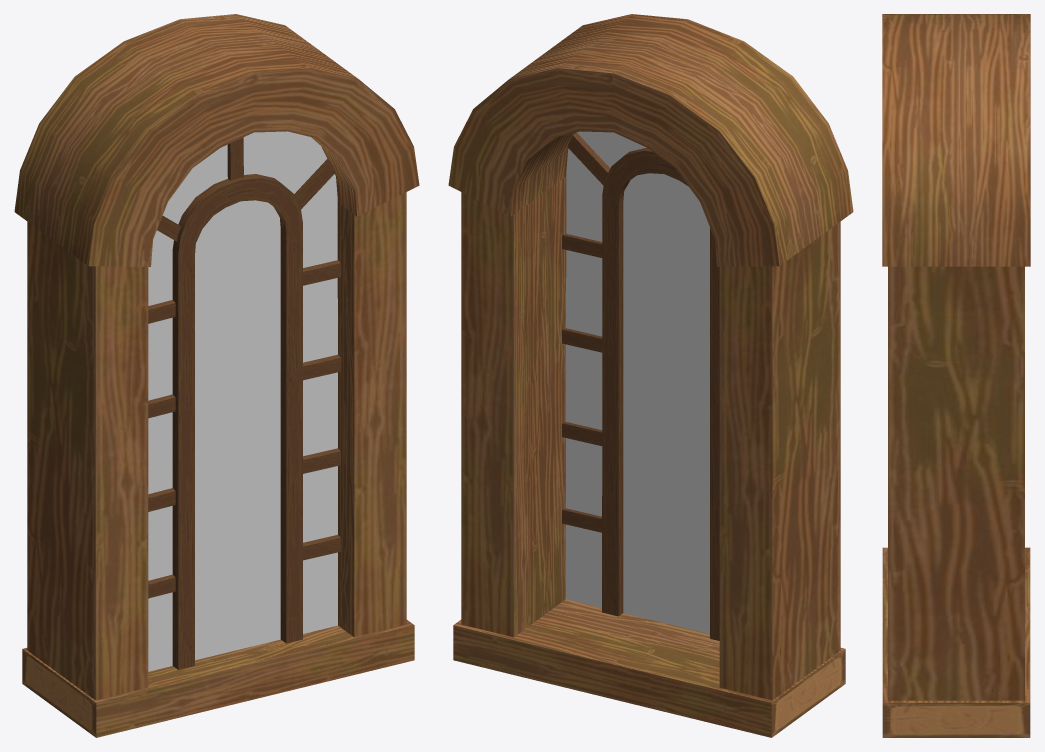
The model's file is window-qm-windowthinround1.glb.
3 views of the same model, side by side, from view 1: azimuth 30°, elevation 25°; view 2: azimuth 150°, elevation 25°; view 3: azimuth 270°, elevation 25° (orthographic).
Visible parts, largest first — view 1: Cube_128; view 2: Cube_128; view 3: Cube_128.
Boxes of the visible parts, bbox=[...] form: Cube_128: bbox=[14, 14, 419, 737]; Cube_128: bbox=[448, 14, 853, 737]; Cube_128: bbox=[882, 14, 1030, 737].
Bounding box in the file's own units: 0.8876 × 1.6 × 0.3444.
2 materials, 1 textured.
